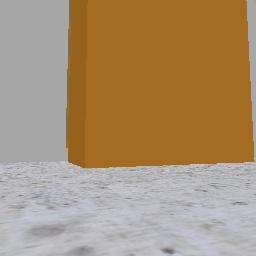tonomat: (69, 0, 253, 167)
